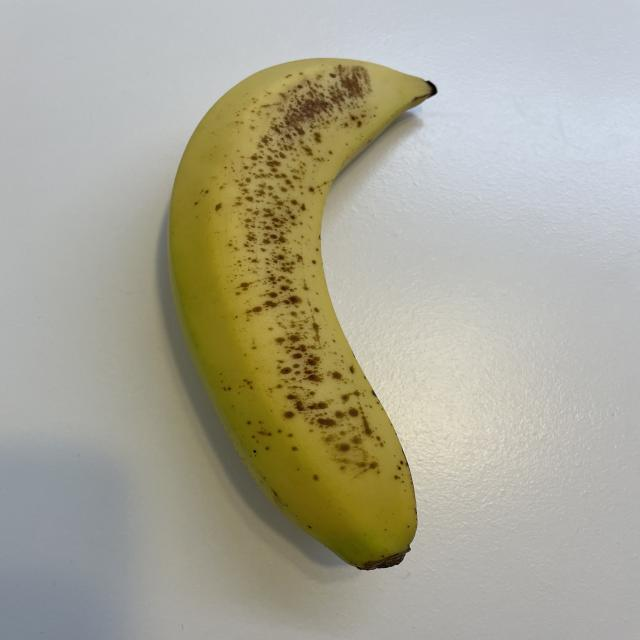Banana: (157, 48, 446, 576)
